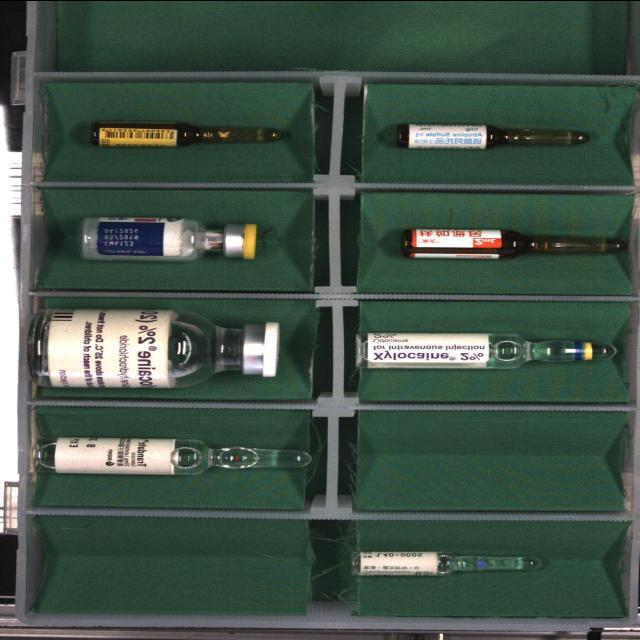Vials: (31, 308, 279, 388), (81, 216, 257, 260)
